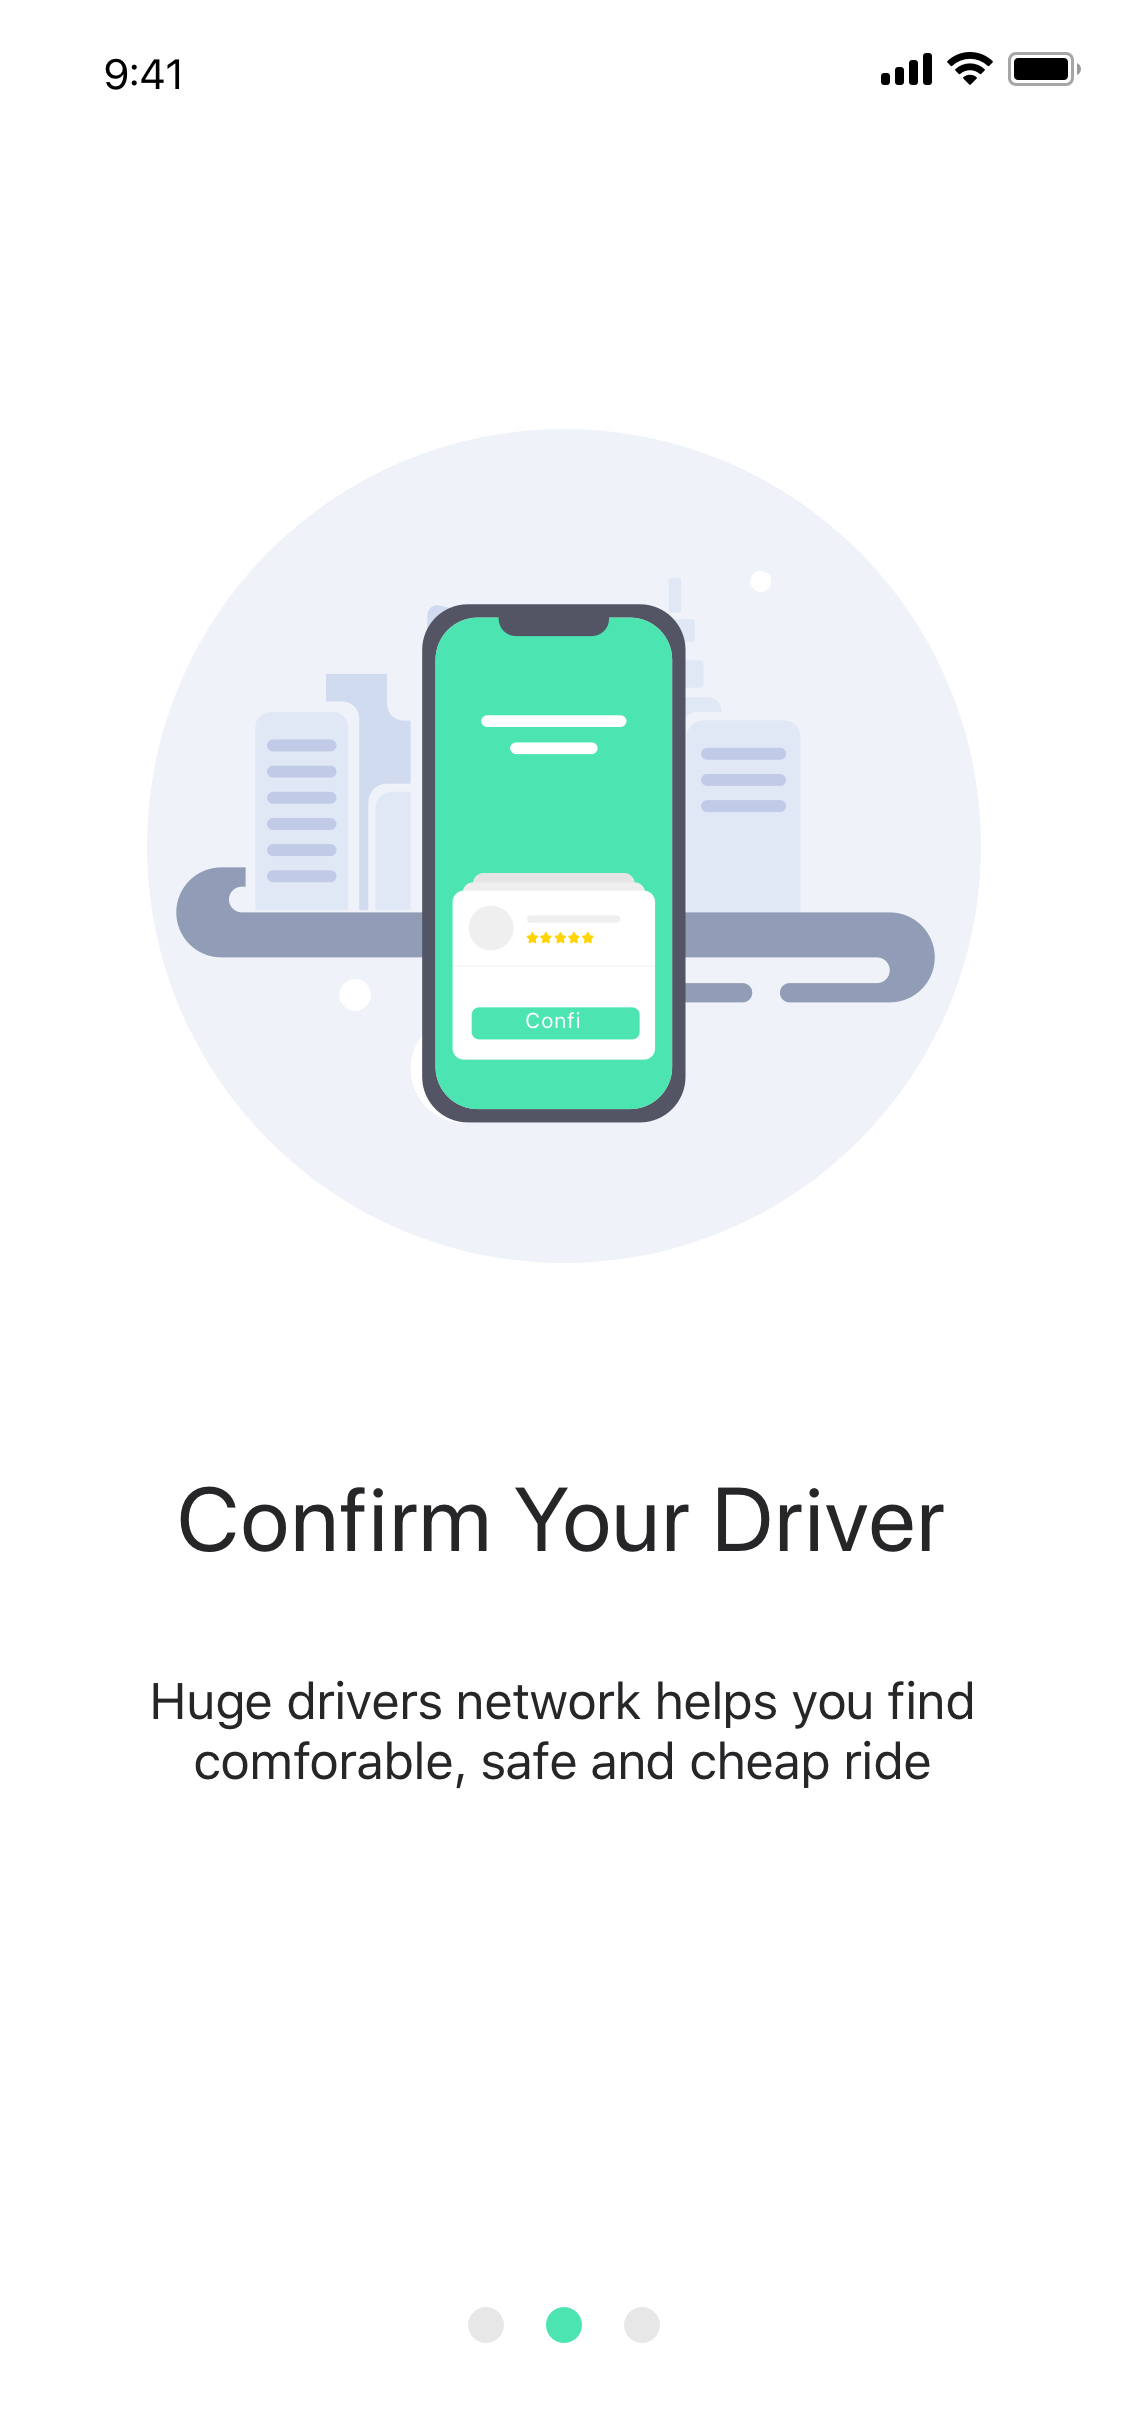Image: (148, 429, 982, 1265)
PageIndicator: (468, 2305, 662, 2344)
Text: (152, 1679, 973, 1790), (180, 1485, 945, 1554)
UpperTaskBar: (106, 51, 1081, 92)
